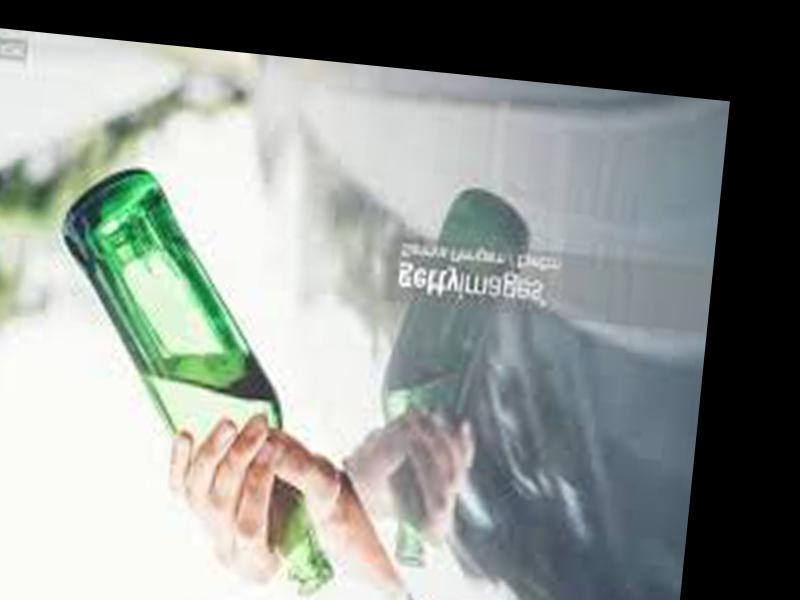Beer: (29, 163, 376, 591)
